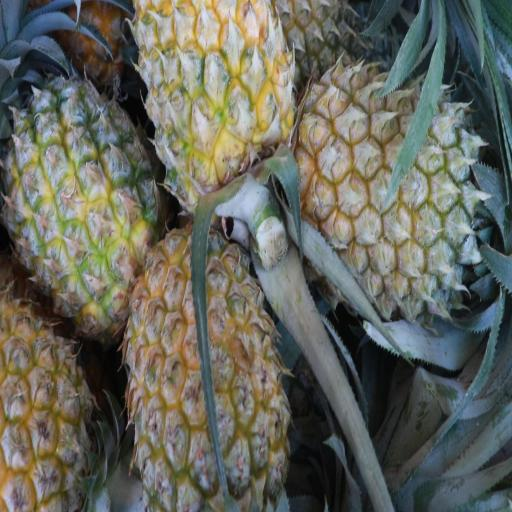------------------------------: (124, 223, 280, 512)
Pineapple - v8 v1: (6, 72, 152, 320), (143, 0, 299, 188), (0, 292, 104, 512)
